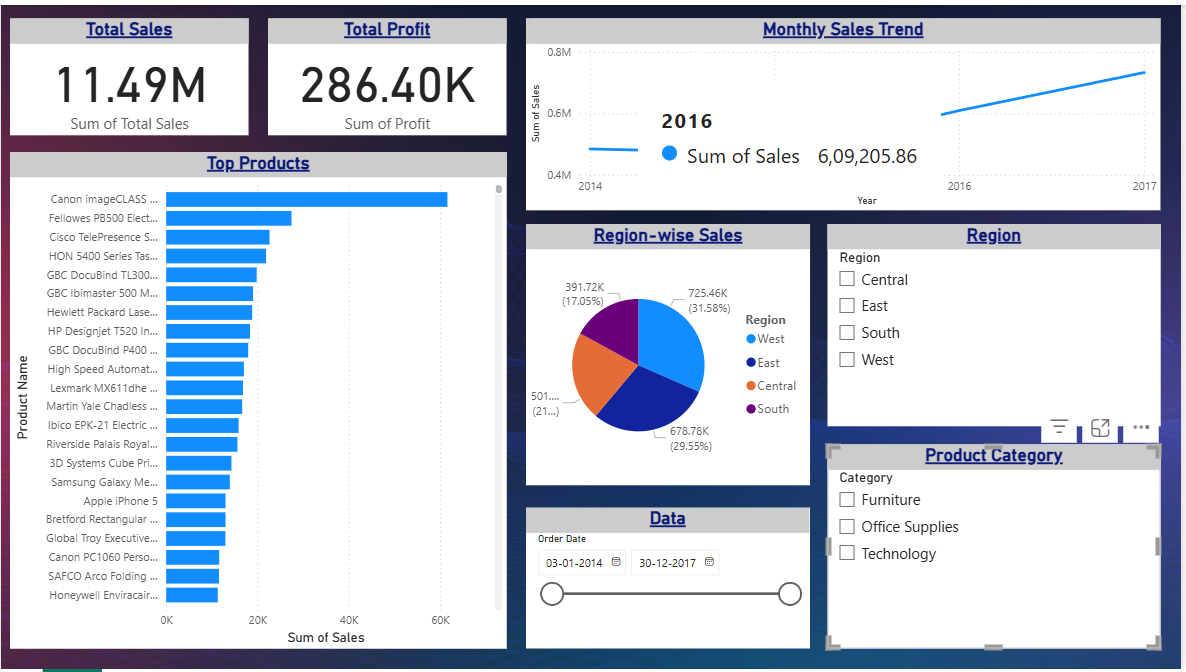

Layout of this report page (visuals, bound fields, positions):
{"tool":"powerbi","page":{"name":"Page 1","canvas":[1280,720],"ordinal":0},"visuals":[{"type":"card","title":"Total Sales","fields":{"Values":["Sum(update dataset.Total Sales)"]},"box":[9.8,14.6,258.6,126.9],"z":0},{"type":"card","title":"Total Profit","fields":{"Values":["Sum(update dataset.Profit)"]},"box":[289.5,14.6,258.6,126.9],"z":1000},{"type":"clusteredBarChart","title":"Top Products","fields":{"Y":["Sum(update dataset.Sales)"],"Category":["update dataset.Product Name"]},"box":[9.4,158.7,538.6,538.6],"z":2000},{"type":"lineChart","title":"Monthly Sales Trend","fields":{"Category":["update dataset.Order Date.Variation.Date Hierarchy.Year","update dataset.Order Date.Variation.Date Hierarchy.Quarter","update dataset.Order Date.Variation.Date Hierarchy.Month","update dataset.Order Date.Variation.Date Hierarchy.Day"],"Y":["Sum(update dataset.Sales)"]},"box":[569.3,14.6,688,208.2],"z":3000},{"type":"pieChart","title":"Region-wise Sales","fields":{"Category":["update dataset.Region"],"Y":["Sum(update dataset.Sales)"]},"box":[568.8,238.1,308,283.5],"z":4000},{"type":"slicer","title":"Data","fields":{"Values":["update dataset.Order Date"]},"box":[569.3,544.9,307.4,152.9],"z":5000},{"type":"slicer","title":"Region","fields":{"Values":["update dataset.Region"]},"box":[896.2,237.5,361.1,219.6],"z":6000},{"type":"slicer","title":"Product Category","fields":{"Values":["update dataset.Category"]},"box":[896.2,476.6,361.1,221.2],"z":7000}]}

Visuals, with their boxes in screenshot pixels (x1, y1, x2, y2), scaled from the page's 1280x720 canvas onto the 1186x672 screenshot:
"Total Sales" card: {"x1": 9, "y1": 14, "x2": 249, "y2": 132}
"Total Profit" card: {"x1": 268, "y1": 14, "x2": 508, "y2": 132}
"Top Products" clusteredBarChart: {"x1": 9, "y1": 148, "x2": 508, "y2": 651}
"Monthly Sales Trend" lineChart: {"x1": 527, "y1": 14, "x2": 1165, "y2": 208}
"Region-wise Sales" pieChart: {"x1": 527, "y1": 222, "x2": 812, "y2": 487}
"Data" slicer: {"x1": 527, "y1": 509, "x2": 812, "y2": 651}
"Region" slicer: {"x1": 830, "y1": 222, "x2": 1165, "y2": 427}
"Product Category" slicer: {"x1": 830, "y1": 445, "x2": 1165, "y2": 651}
